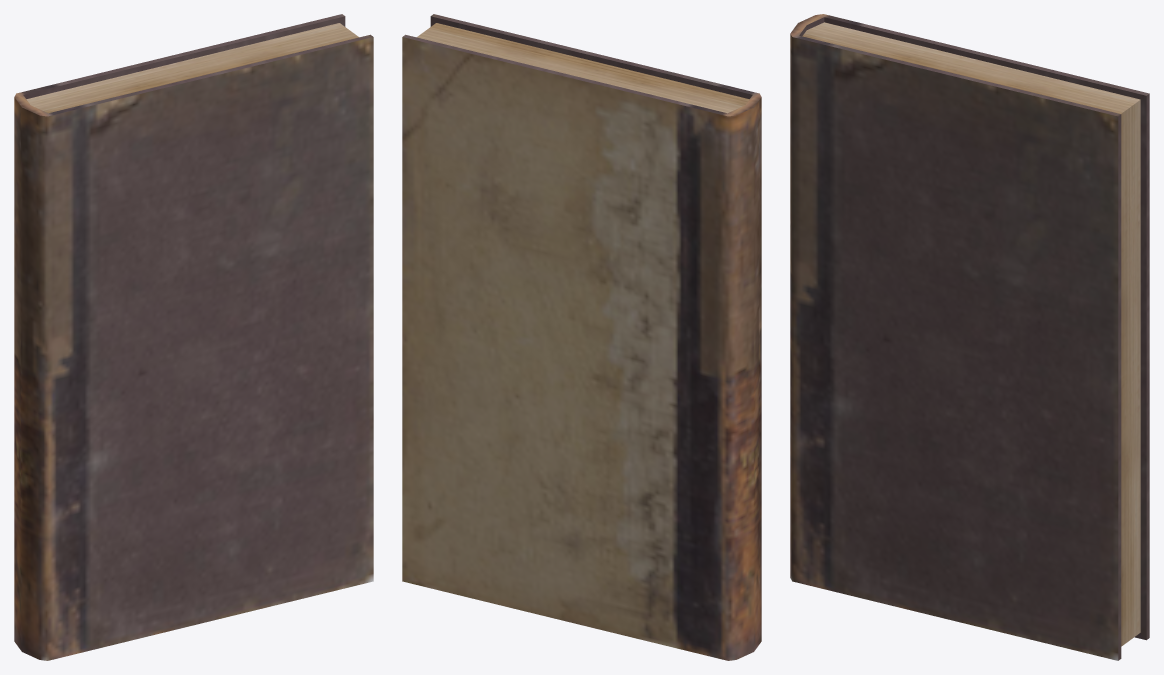
The model's file is SM_Book_Old.040.fbx.
3 renders of one model, left to right at view 1: azimuth 30°, elevation 25°; view 2: azimuth 150°, elevation 25°; view 3: azimuth 330°, elevation 25°, orthographic.
Parts seen in each view (by area): view 1: SM_Book_Old.040; view 2: SM_Book_Old.040; view 3: SM_Book_Old.040.
Boxes of the visible parts, x1=… form: SM_Book_Old.040: x1=14, y1=14, x2=373, y2=660; SM_Book_Old.040: x1=402, y1=14, x2=761, y2=660; SM_Book_Old.040: x1=790, y1=14, x2=1149, y2=660.
Size of the model in its own units: 0.2066 by 0.32 by 0.0334.
